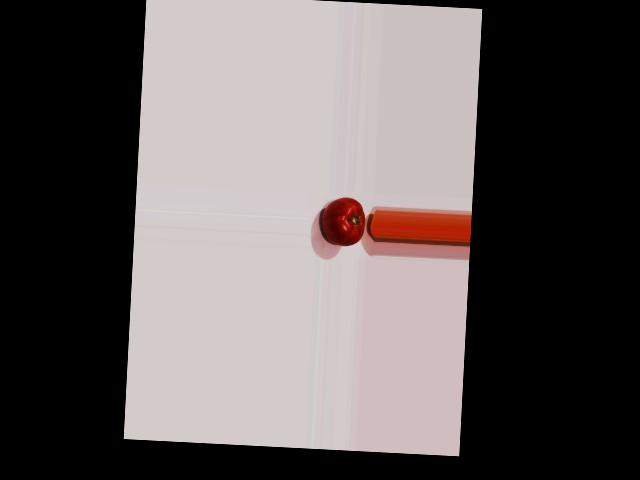tomato: (321, 196, 365, 246)
